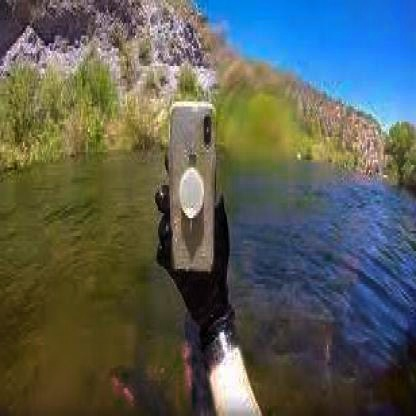cellphone: (169, 99, 220, 281)
